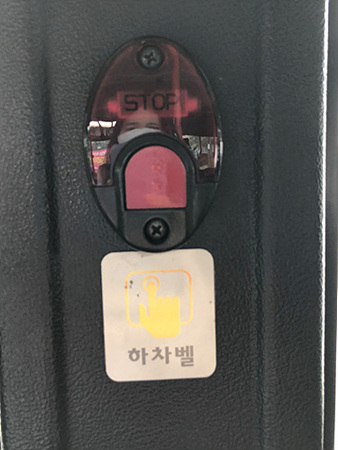bell: (83, 37, 227, 253)
